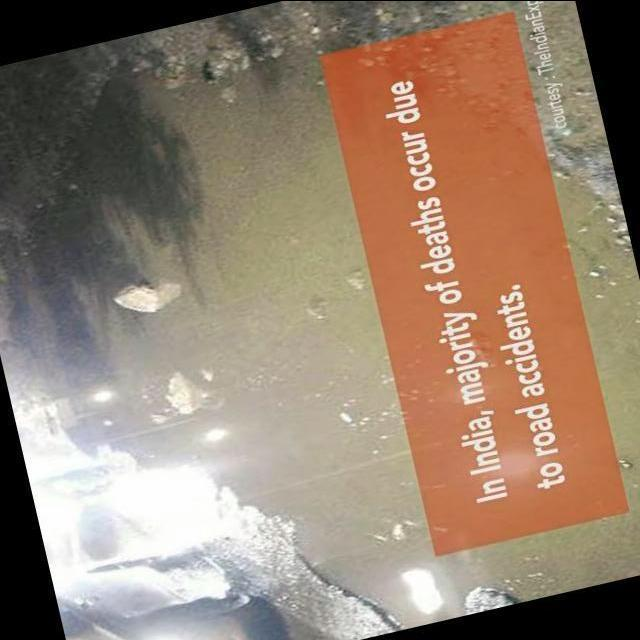pothole: (28, 59, 469, 618)
